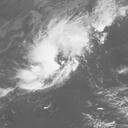cyclone: (18, 22, 81, 90)
